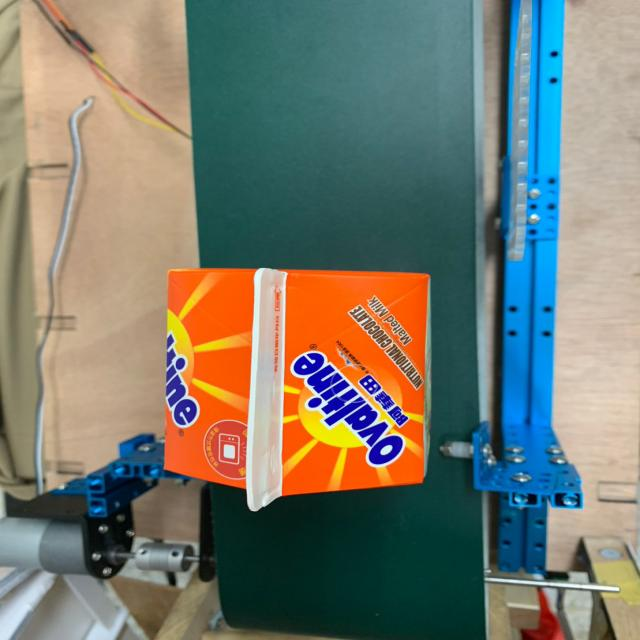non_white_jug: (108, 235, 466, 506)
